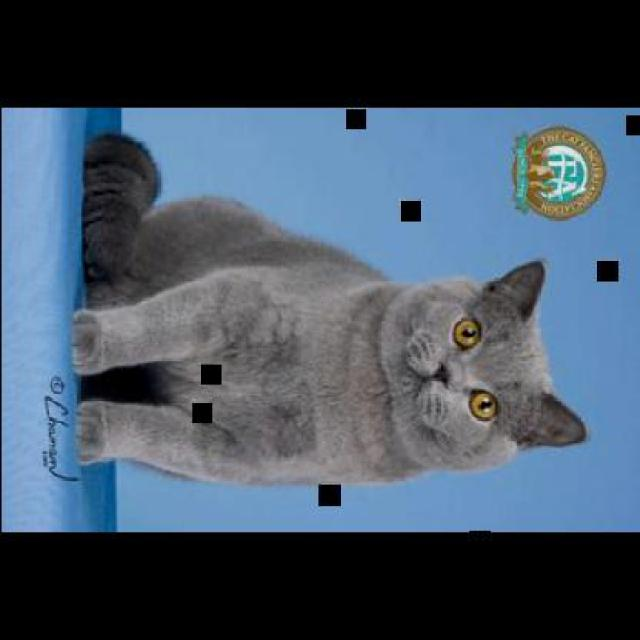unauthorized: (69, 131, 588, 486)
